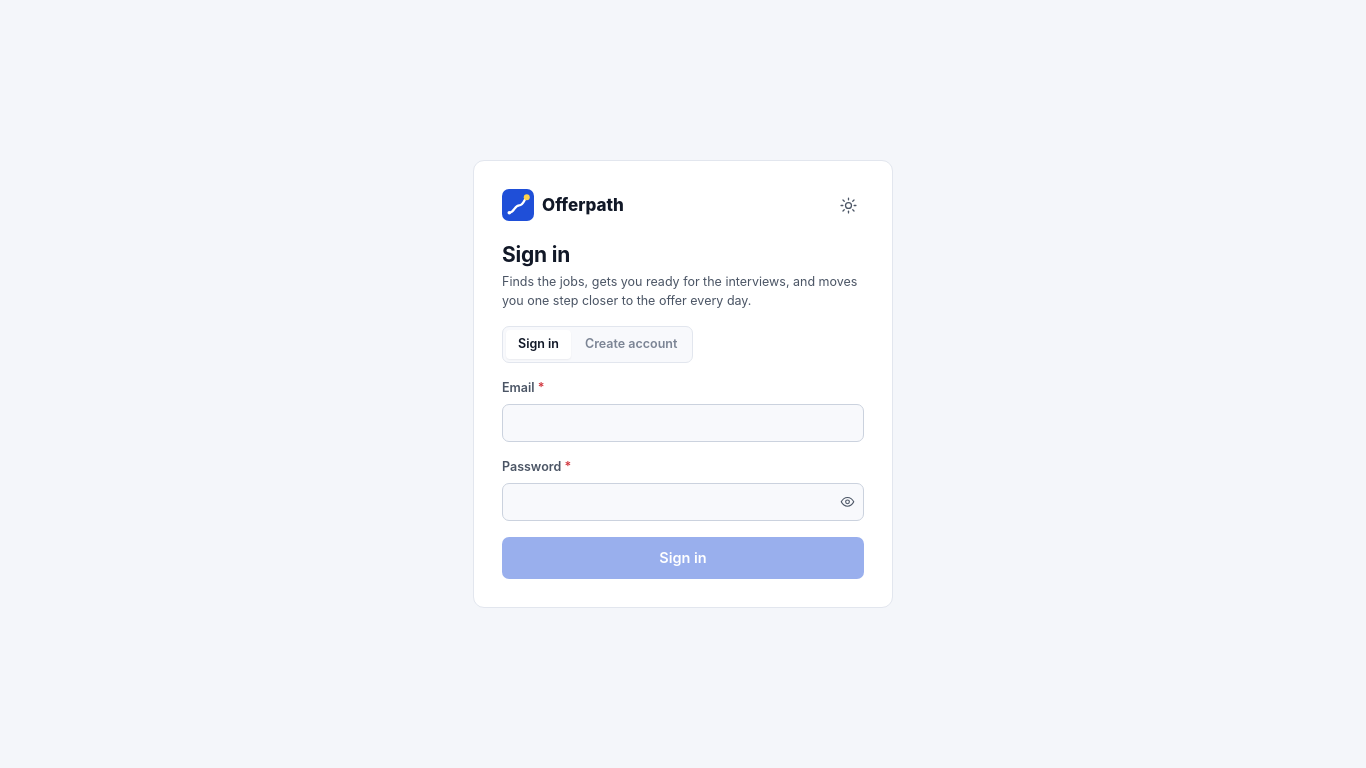
signing in › signs in and opens Today
Type "me@example.com" into the field labelled "Email *" at {"x": 683, "y": 423}, box x1=502 y1=404 x2=864 y2=442
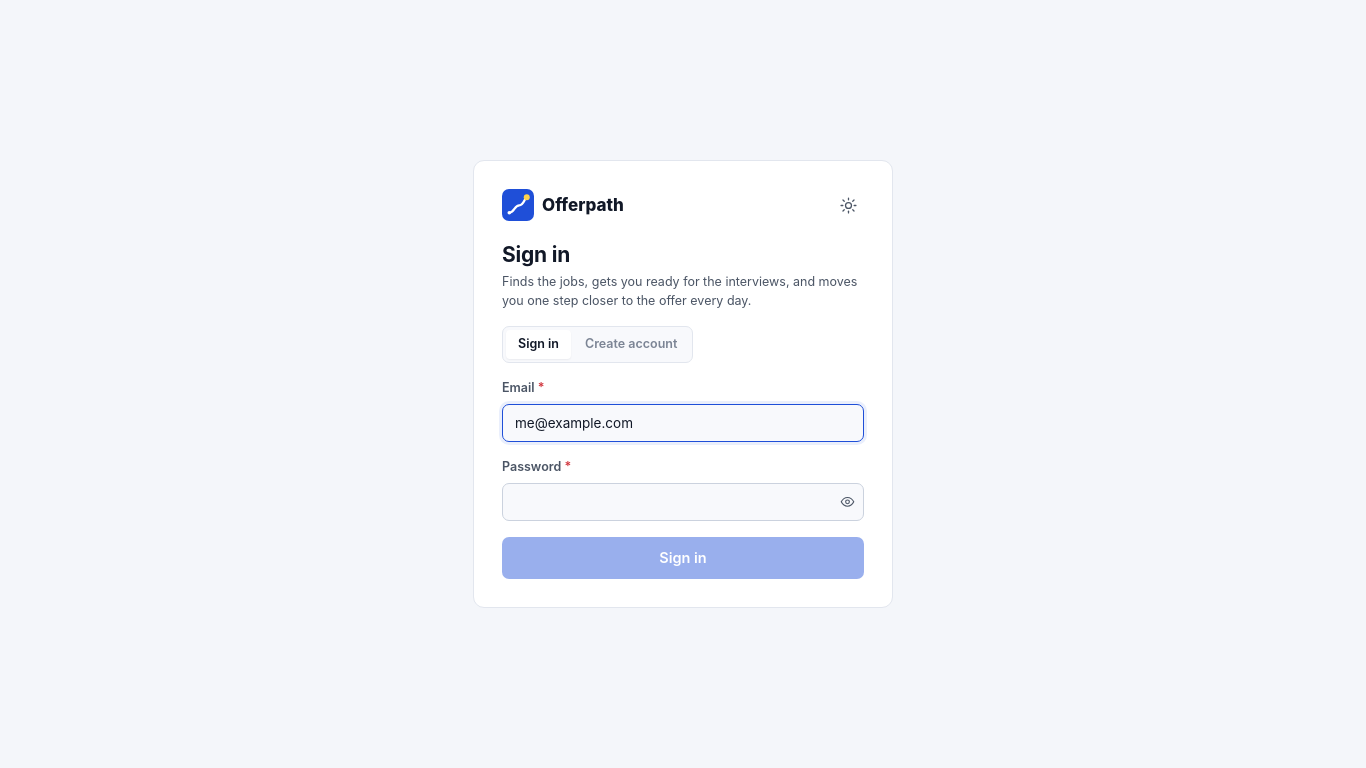
Type "correct horse" into the password field labelled "Password *" at {"x": 683, "y": 502}, box x1=502 y1=482 x2=864 y2=520
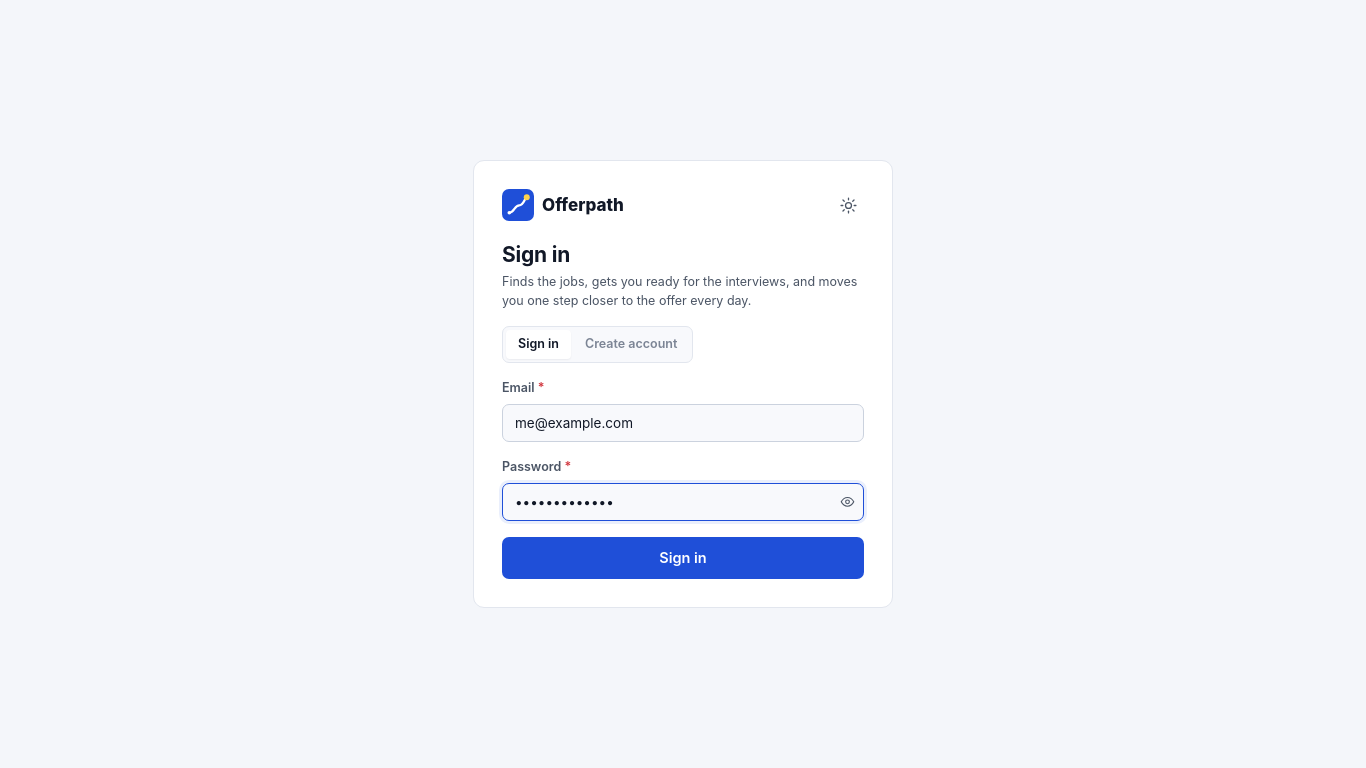
Click the button "Sign in" at {"x": 683, "y": 558}, box x1=502 y1=536 x2=864 y2=578
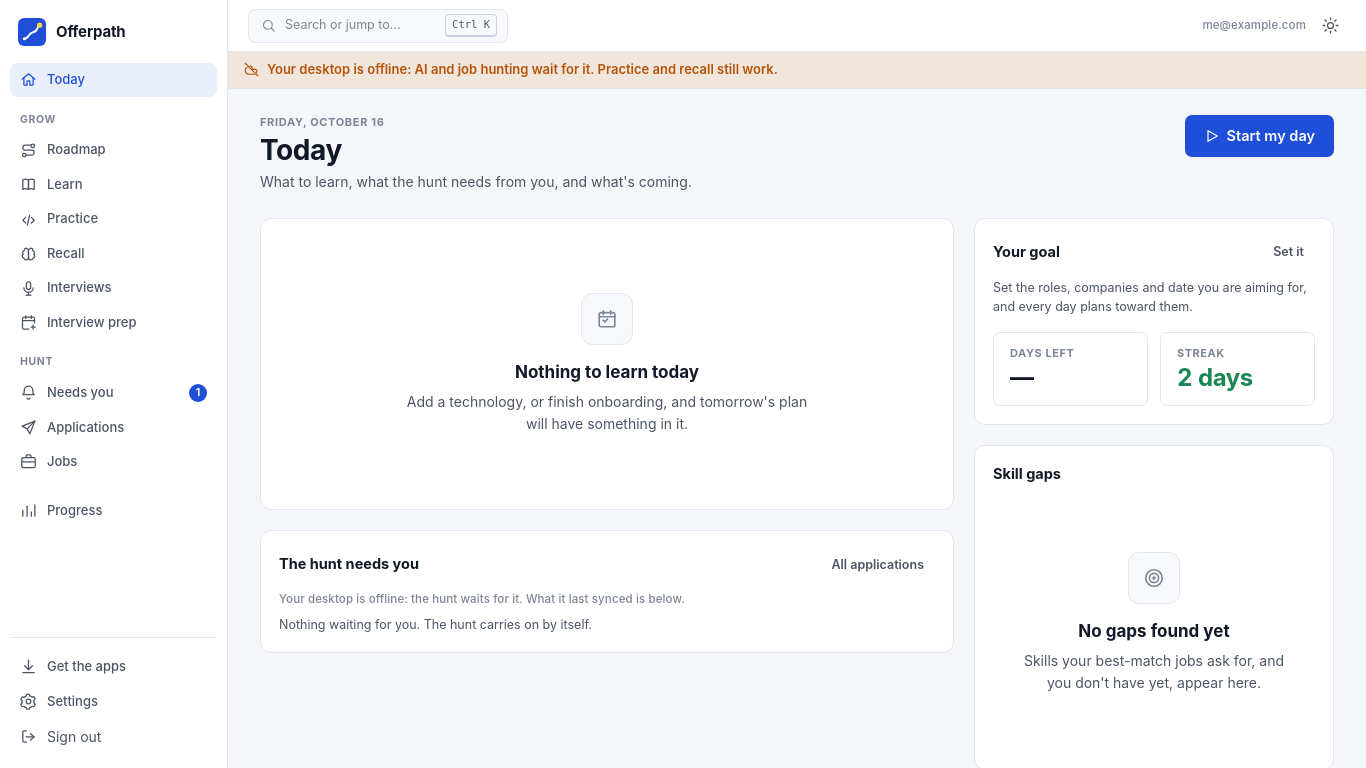
Result: the heading "Today" is shown at x1=260 y1=133 x2=342 y2=167
